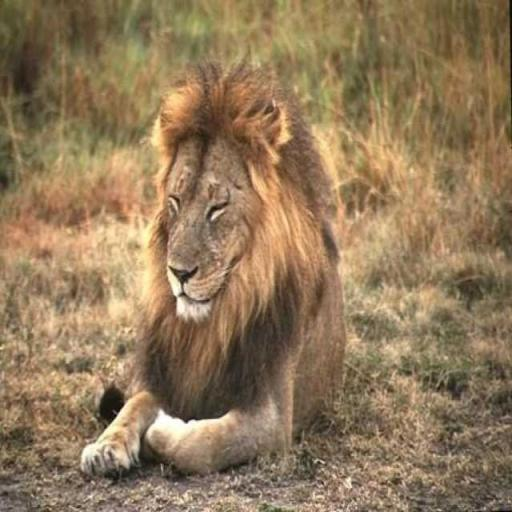Lion: (78, 53, 348, 480)
